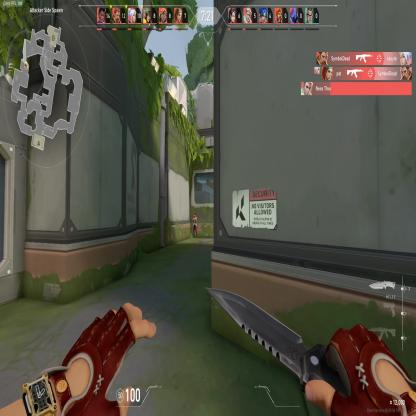enemy: (192, 211, 198, 238)
